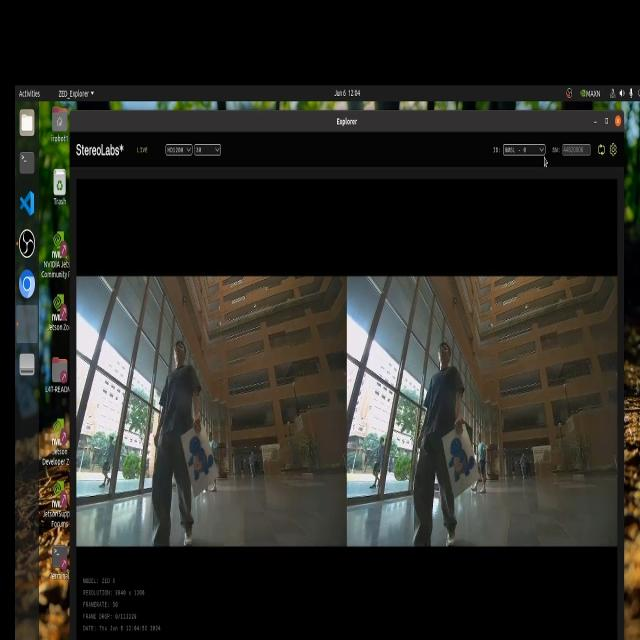blue: (184, 432, 216, 491), (448, 439, 477, 486)
